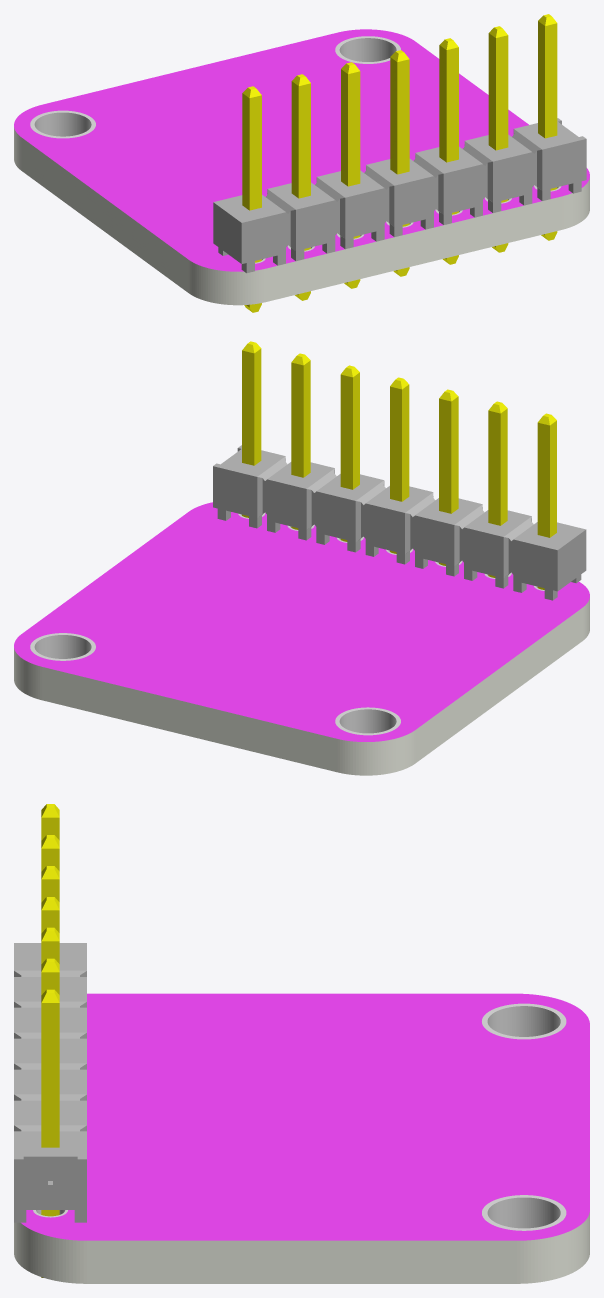
File: TCS34725 RGB sensor.fbx
3 views of the same model, one above another, from view 1: azimuth 30°, elevation 25°; view 2: azimuth 150°, elevation 25°; view 3: azimuth 270°, elevation 25° (orthographic). The views are drawn at different scales.
Visible parts, largest first — view 1: imagetostl_mesh21, imagetostl_mesh12, imagetostl_mesh18, imagetostl_mesh2, imagetostl_mesh5; view 2: imagetostl_mesh21, imagetostl_mesh12, imagetostl_mesh18, imagetostl_mesh2, imagetostl_mesh5; view 3: imagetostl_mesh21, imagetostl_mesh18, imagetostl_mesh12, imagetostl_mesh2, imagetostl_mesh5.
Part boxes in pixels (x1,y1,x2,y2): imagetostl_mesh21: [14, 29, 589, 271]; imagetostl_mesh12: [213, 118, 586, 273]; imagetostl_mesh18: [14, 127, 589, 305]; imagetostl_mesh2: [242, 14, 557, 312]; imagetostl_mesh5: [30, 36, 561, 263]; imagetostl_mesh21: [14, 502, 589, 741]; imagetostl_mesh12: [213, 445, 586, 600]; imagetostl_mesh18: [14, 598, 589, 775]; imagetostl_mesh2: [242, 341, 556, 589]; imagetostl_mesh5: [30, 512, 544, 735]; imagetostl_mesh21: [21, 993, 589, 1240]; imagetostl_mesh18: [14, 1212, 589, 1283]; imagetostl_mesh12: [14, 943, 86, 1222]; imagetostl_mesh2: [41, 804, 59, 1277]; imagetostl_mesh5: [33, 1003, 566, 1230].
Size of the model in its own units: 2030 by 1148 by 2000.
